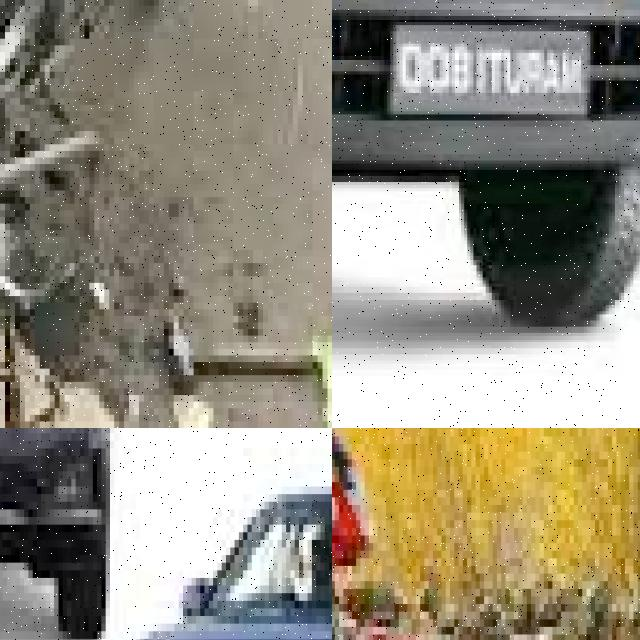bike: (0, 0, 317, 428), (332, 428, 488, 640)
car: (332, 0, 640, 357), (67, 433, 332, 640), (0, 428, 127, 640)
